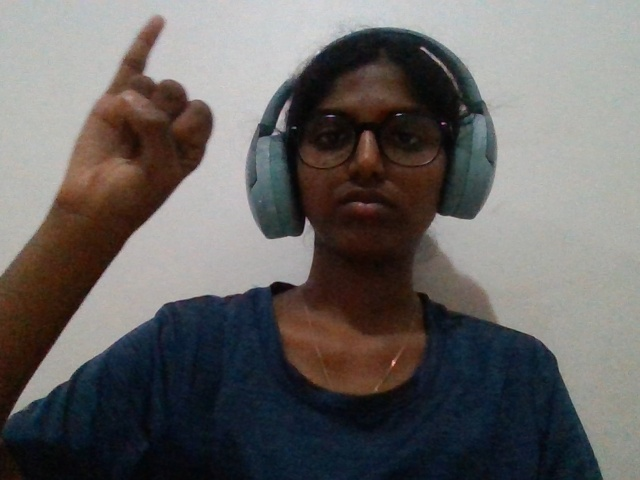I: (49, 2, 237, 282)
